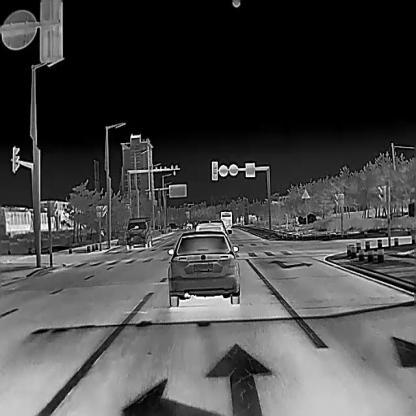car: (166, 230, 240, 306), (126, 215, 152, 248), (221, 211, 232, 232)
crosswalk: (58, 254, 161, 273), (238, 240, 290, 262)
light: (208, 158, 217, 184)
sign: (229, 162, 238, 180), (220, 165, 229, 176)
